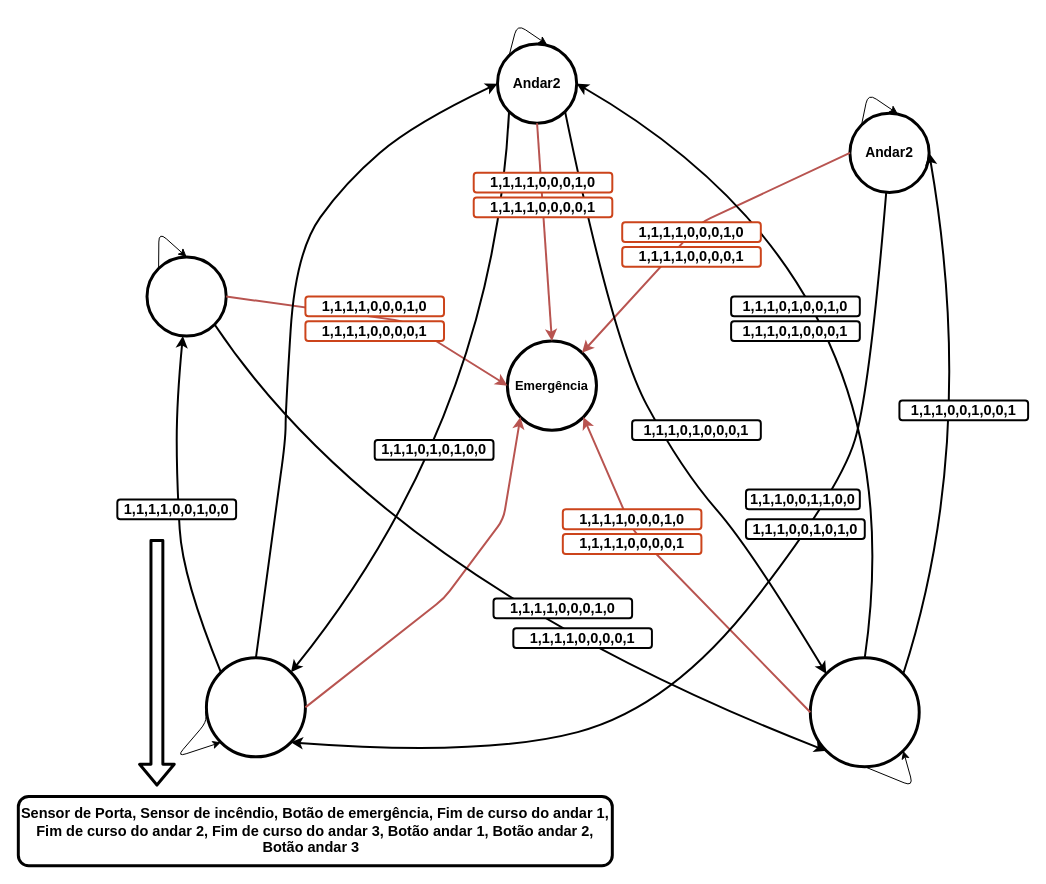
This 1046x884 diagram has some shape labels left out. The shapes that lost their labels are listed below. From the top down, each one's box as (x1, y1, x2, y2) in pixels, then its label:
(145, 255, 227, 337): Andar1
(204, 656, 306, 758): Descendo
(808, 656, 920, 768): Subindo
